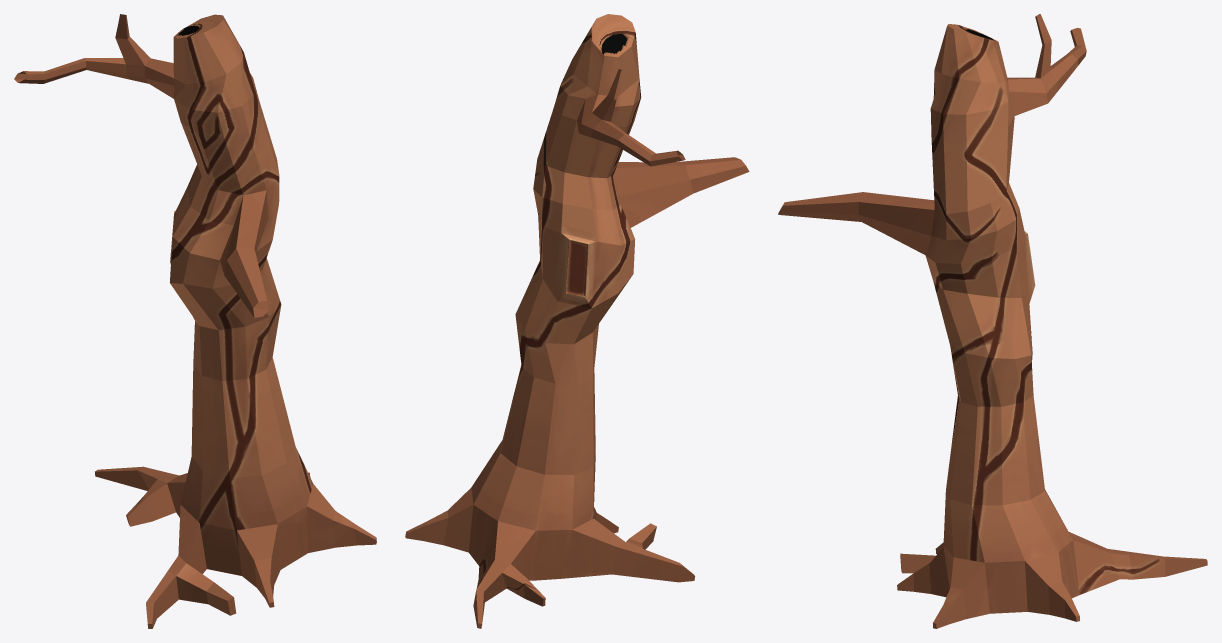
File: tree stwol small.fbx
The picture shows the model from 3 angles, left to right: view 1: azimuth 30°, elevation 25°; view 2: azimuth 150°, elevation 25°; view 3: azimuth 270°, elevation 25°; orthographic projection. The views are drawn at different scales.
Parts seen in each view (by area): view 1: SM_DesireLines.003; view 2: SM_DesireLines.003; view 3: SM_DesireLines.003.
Part boxes in pixels (bbox=[...]): SM_DesireLines.003: bbox=[14, 14, 376, 628]; SM_DesireLines.003: bbox=[405, 14, 749, 628]; SM_DesireLines.003: bbox=[778, 14, 1207, 628].
Bounding box in the file's own units: 1180 × 2232 × 1544.
1 material, 1 textured.
